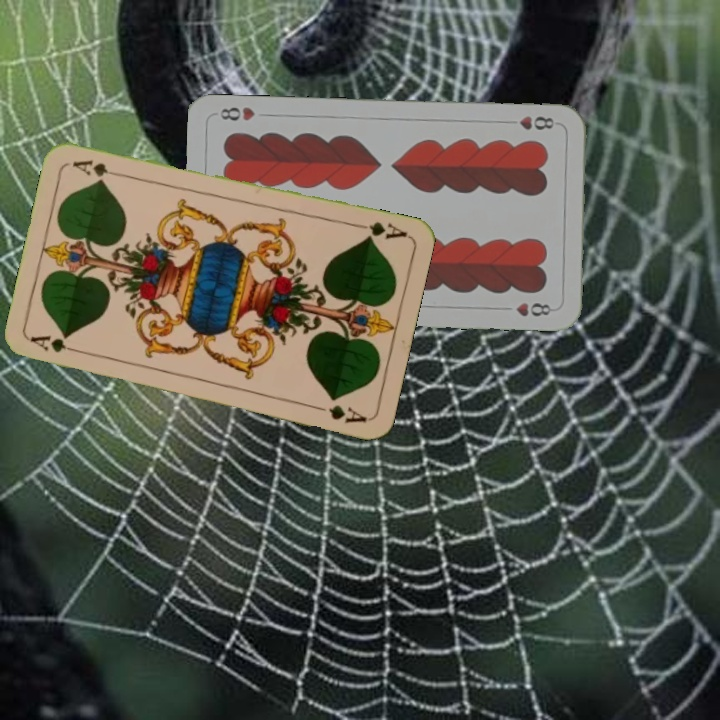GA: (27, 331, 86, 357), (351, 217, 410, 242)
H8: (516, 112, 557, 133)
